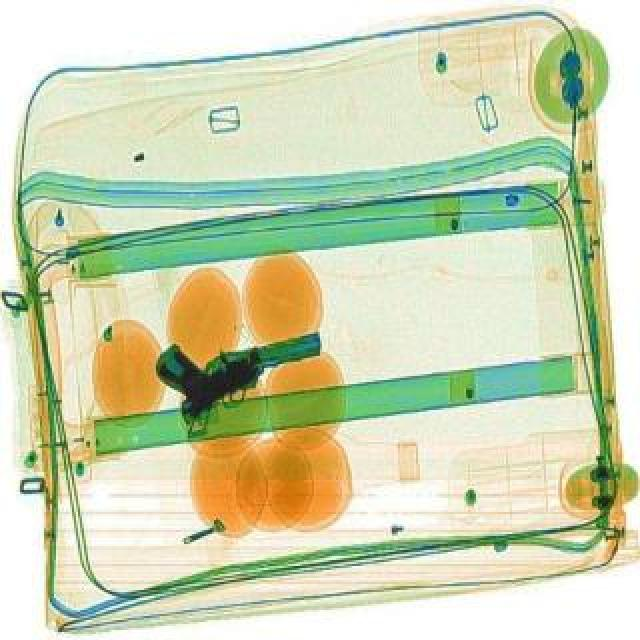gun: (166, 324, 340, 436), (142, 310, 276, 426)
